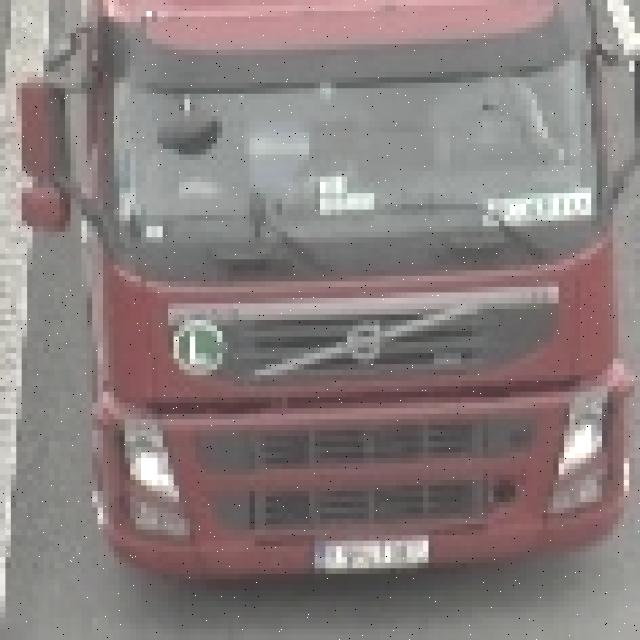truck: (22, 0, 640, 579)
